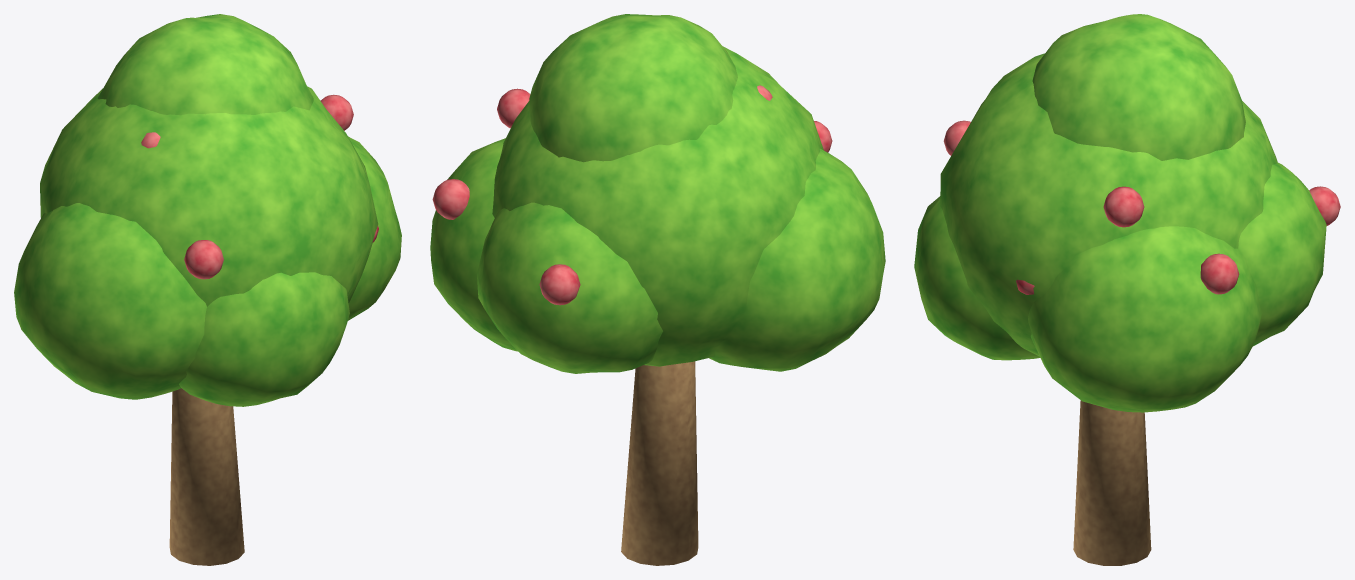
File: planeta2_arbol.obj
The picture shows the model from 3 angles, left to right: view 1: azimuth 30°, elevation 25°; view 2: azimuth 150°, elevation 25°; view 3: azimuth 270°, elevation 25°; orthographic projection. The views are drawn at different scales.
Parts seen in each view (by area): view 1: planeta2_arbol; view 2: planeta2_arbol; view 3: planeta2_arbol.
Boxes of the visible parts, x1,y1,x2,y2 form: planeta2_arbol: (14,14,401,565); planeta2_arbol: (430,14,885,565); planeta2_arbol: (914,14,1340,565).
Bounding box in the file's own units: 4.45 × 5.69 × 4.16.
